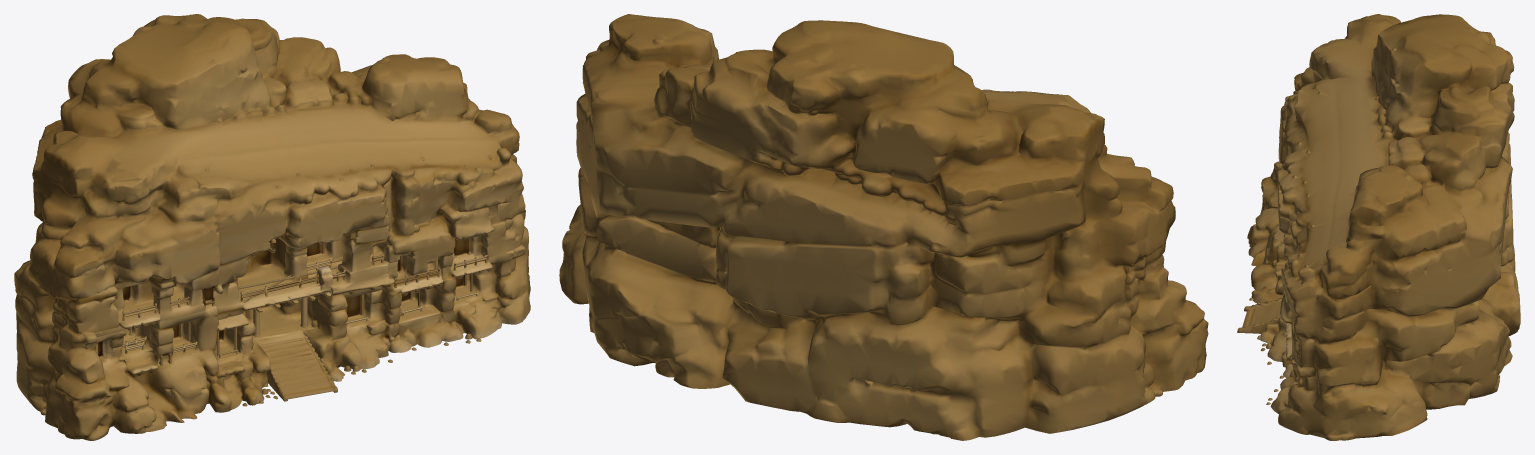
The picture shows the model from 3 angles, left to right: view 1: azimuth 30°, elevation 25°; view 2: azimuth 150°, elevation 25°; view 3: azimuth 270°, elevation 25°; orthographic projection. The views are drawn at different scales.
Parts seen in each view (by area): view 1: tripo_1316fe6a_c6b3_4dbc_9c98_3368543fee15; view 2: tripo_1316fe6a_c6b3_4dbc_9c98_3368543fee15; view 3: tripo_1316fe6a_c6b3_4dbc_9c98_3368543fee15.
Part boxes in pixels (x1=…): tripo_1316fe6a_c6b3_4dbc_9c98_3368543fee15: x1=14, y1=14, x2=530, y2=440; tripo_1316fe6a_c6b3_4dbc_9c98_3368543fee15: x1=559, y1=14, x2=1208, y2=440; tripo_1316fe6a_c6b3_4dbc_9c98_3368543fee15: x1=1237, y1=14, x2=1520, y2=440.
Bounding box in the file's own units: 0.9995 × 0.5669 × 0.5278.
1 material, 1 textured.
